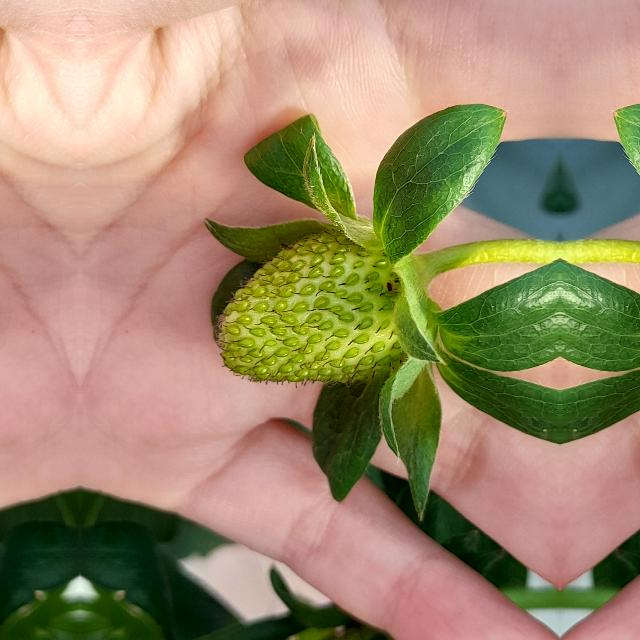Health_25: (214, 228, 400, 388)
